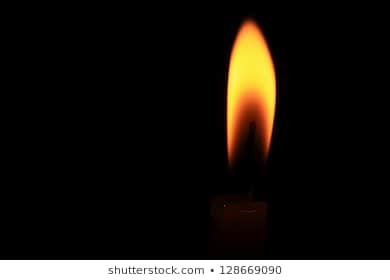Fire: (206, 17, 288, 162)
